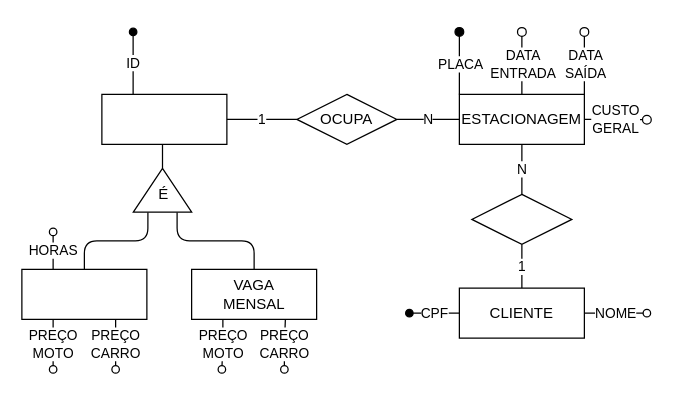
The diagram is 680 pixels wide and 401 high, and some of its shapes have lost their labels. Each missing label, with the box of its shape:
REALIZA: (471, 193, 572, 244)
VAGA: (101, 93, 227, 144)
VAGA AVULSA: (21, 268, 147, 319)
